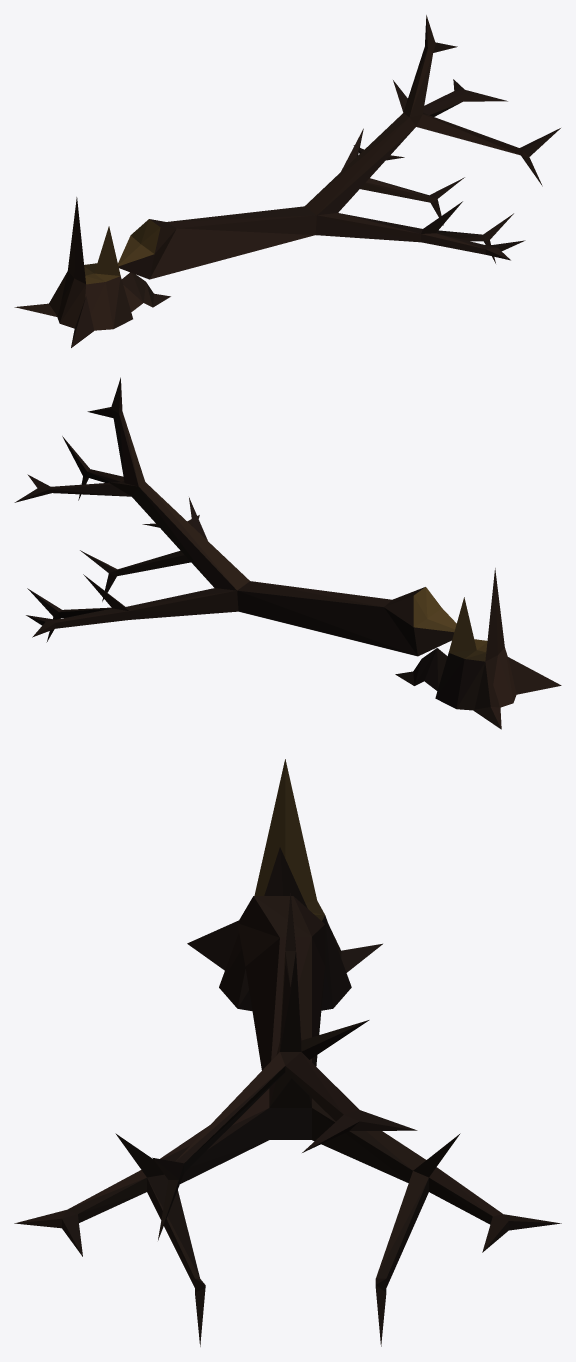
Rendered from Object_Fallen_tree_2022-04-29_01-47-22.obj.
3 renders of one model, top to bottom at view 1: azimuth 30°, elevation 25°; view 2: azimuth 150°, elevation 25°; view 3: azimuth 270°, elevation 25°, orthographic. The views are drawn at different scales.
Visible parts, largest first — view 1: Object_Fallen_tree_2022-04-29_01-47-22.obj; view 2: Object_Fallen_tree_2022-04-29_01-47-22.obj; view 3: Object_Fallen_tree_2022-04-29_01-47-22.obj.
Part boxes in pixels (x1=…): Object_Fallen_tree_2022-04-29_01-47-22.obj: x1=14, y1=15, x2=560, y2=347; Object_Fallen_tree_2022-04-29_01-47-22.obj: x1=14, y1=377, x2=561, y2=729; Object_Fallen_tree_2022-04-29_01-47-22.obj: x1=14, y1=759, x2=561, y2=1346.
Bounding box in the file's own units: 362 × 174 × 206.
